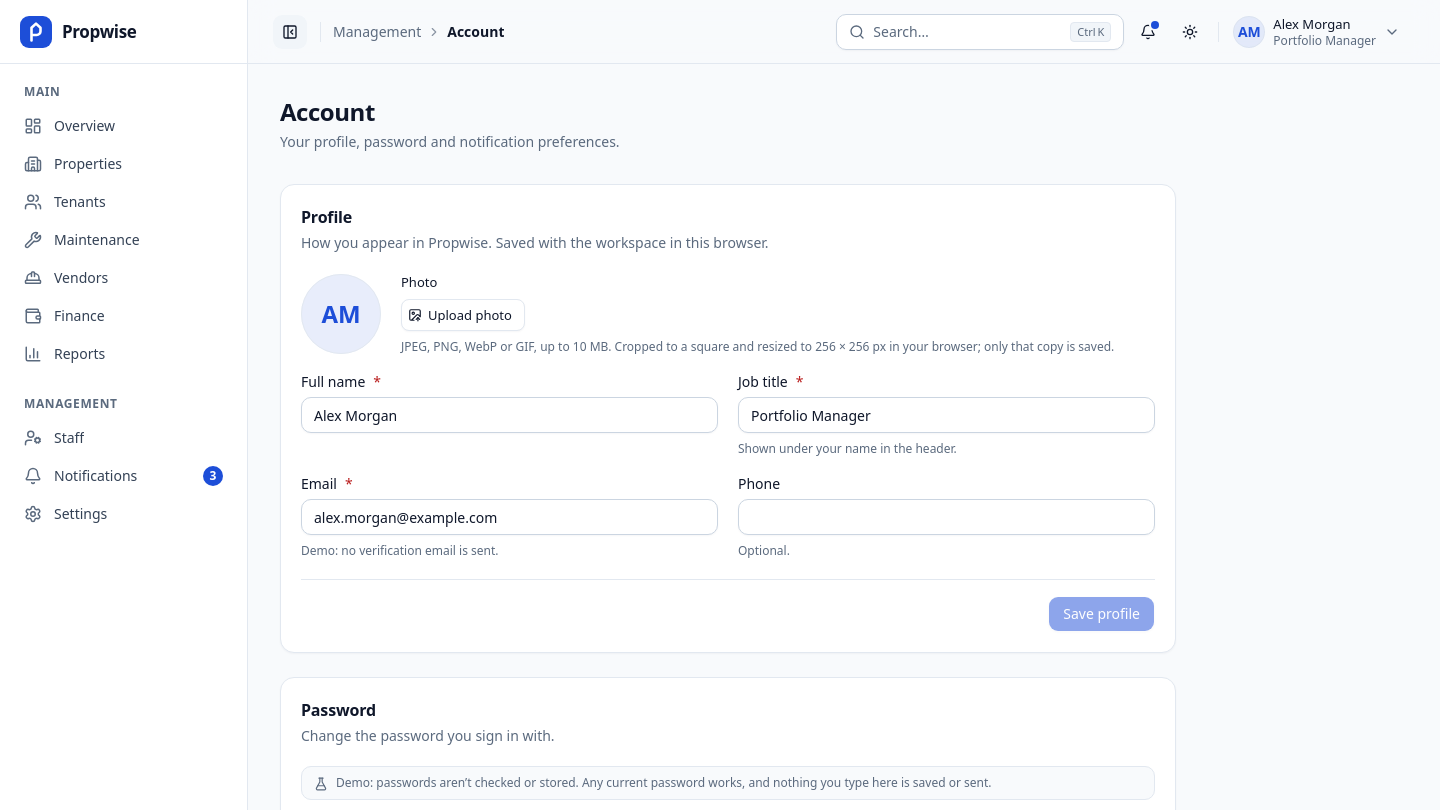
Test: Account page › keeps what was typed and shows the error when saving fails
This screenshot has width=1440, height=810.
Replace the text in the field labelled "Full name *" with "Sam Lee" at (510, 415), box [301, 397, 718, 433]
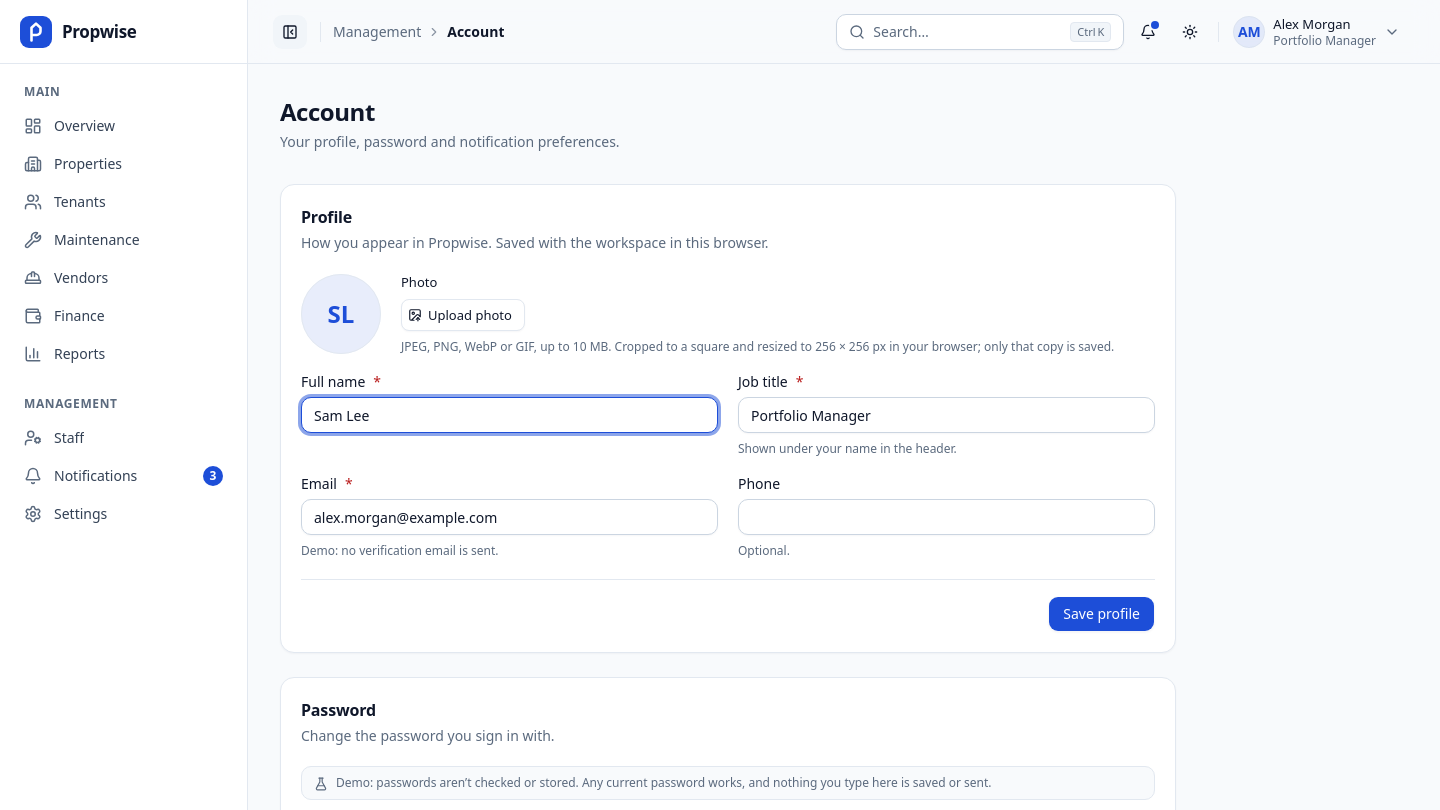
Click the button "Save profile".
click(1102, 614)  # box [1048, 596, 1155, 632]
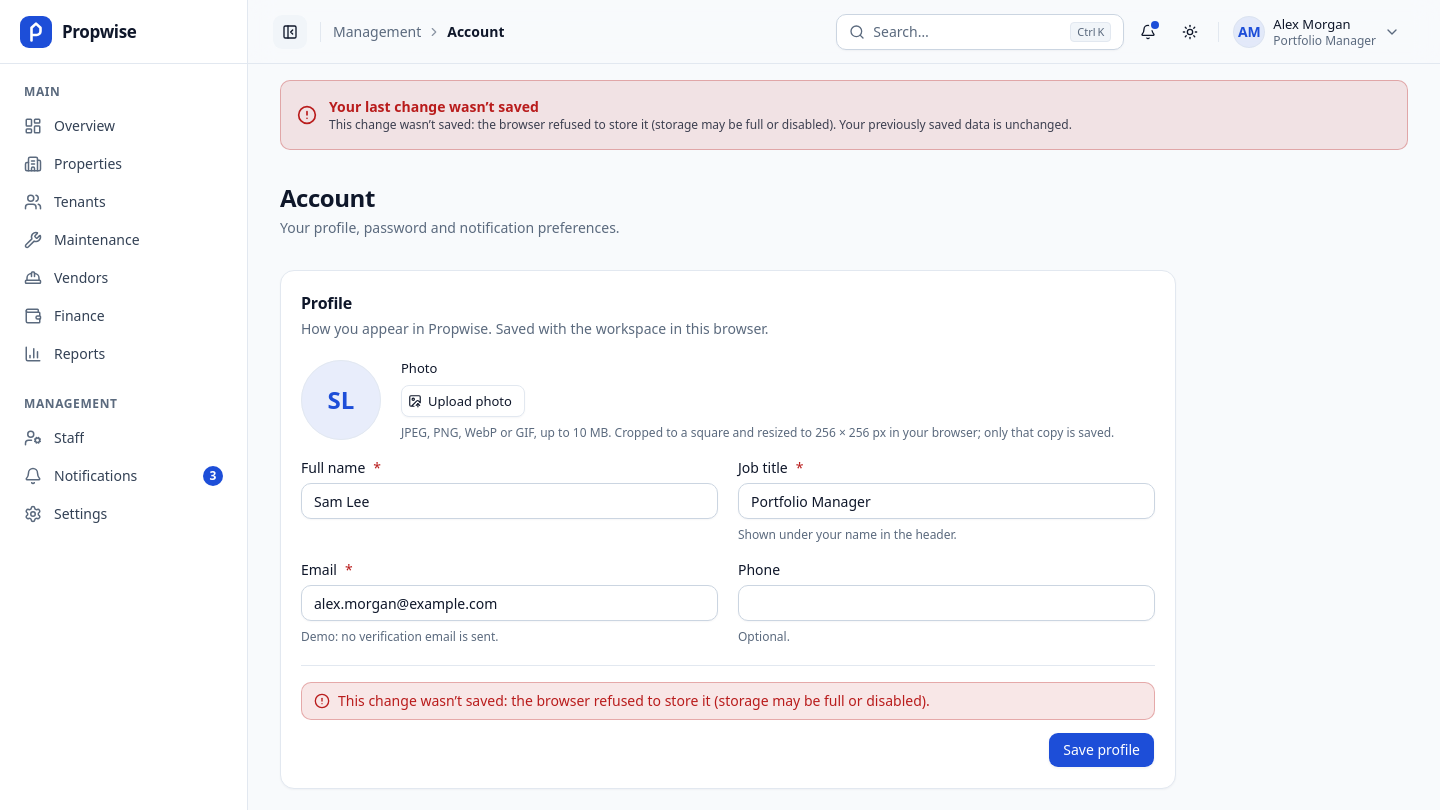
Expected: the button with aria-label "Account menu for Alex Morgan" is shown, [1229, 10, 1408, 52]
Expected: the button "Save profile" is enabled, [1048, 732, 1155, 768]
Expected: the 2nd message shows "wasn’t saved", [338, 691, 930, 710]
